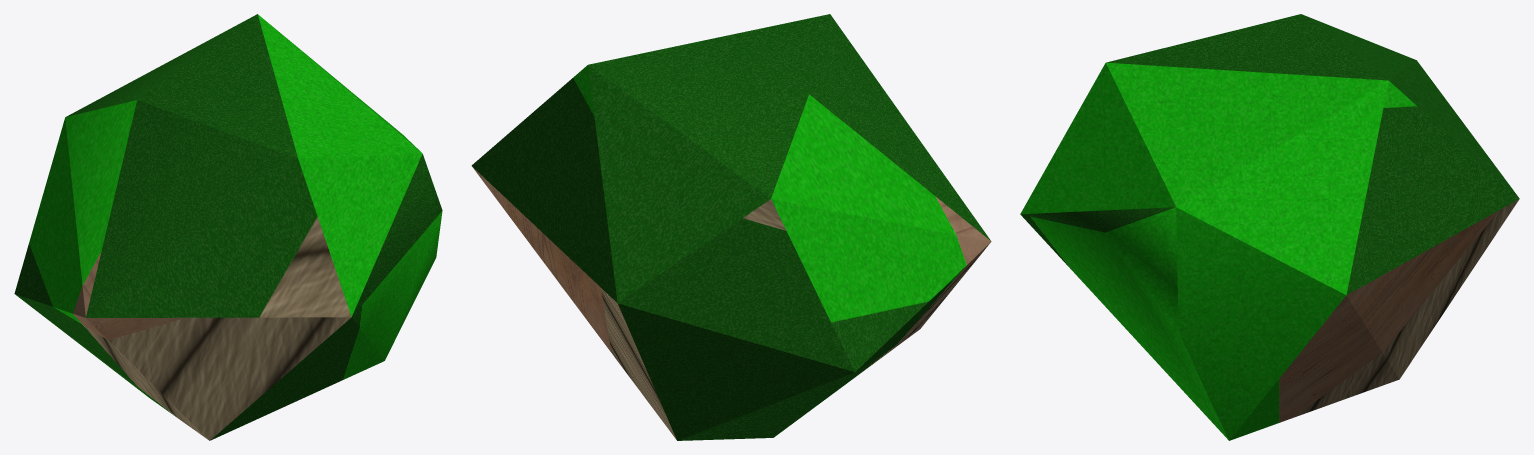
The model's file is textured rock.fbx.
The picture shows the model from 3 angles, left to right: view 1: azimuth 30°, elevation 25°; view 2: azimuth 150°, elevation 25°; view 3: azimuth 270°, elevation 25°; orthographic projection. The views are drawn at different scales.
Visible parts, largest first — view 1: pPlatonic1; view 2: pPlatonic1; view 3: pPlatonic1.
Boxes of the visible parts, bbox=[...] form: pPlatonic1: bbox=[14, 14, 442, 440]; pPlatonic1: bbox=[471, 14, 991, 440]; pPlatonic1: bbox=[1020, 14, 1519, 440].
Bounding box in the file's own units: 31.89 × 25.29 × 32.2.
